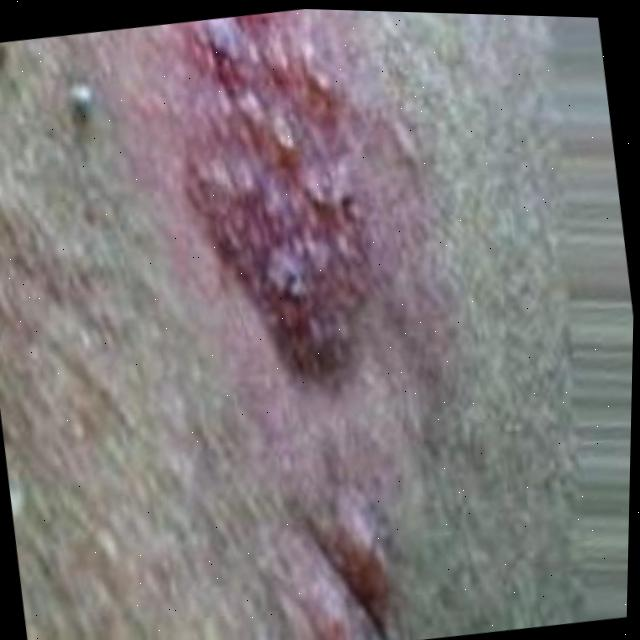Shingles: (173, 5, 404, 367)
